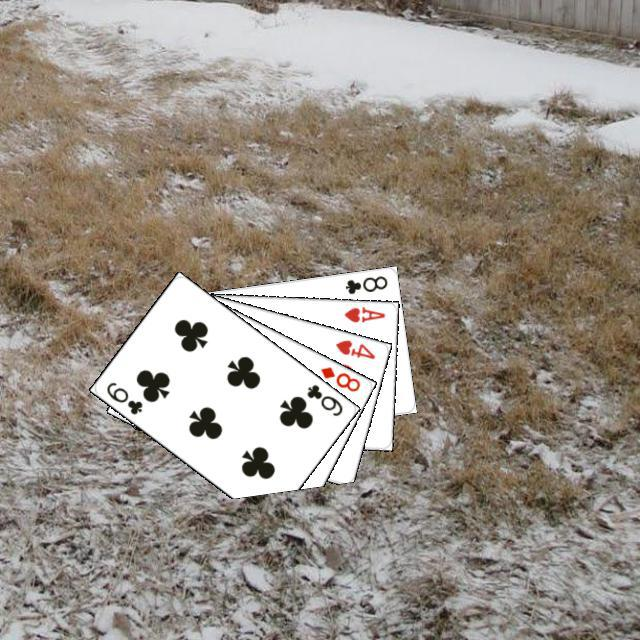4h: (330, 335, 377, 361)
6c: (101, 377, 145, 416), (302, 380, 345, 418)
8c: (340, 271, 389, 296)
8d: (316, 362, 362, 394)
Ah: (339, 302, 387, 324)
